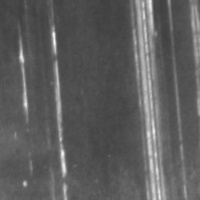scratches: (120, 0, 174, 196), (41, 18, 78, 199), (10, 28, 36, 127)
